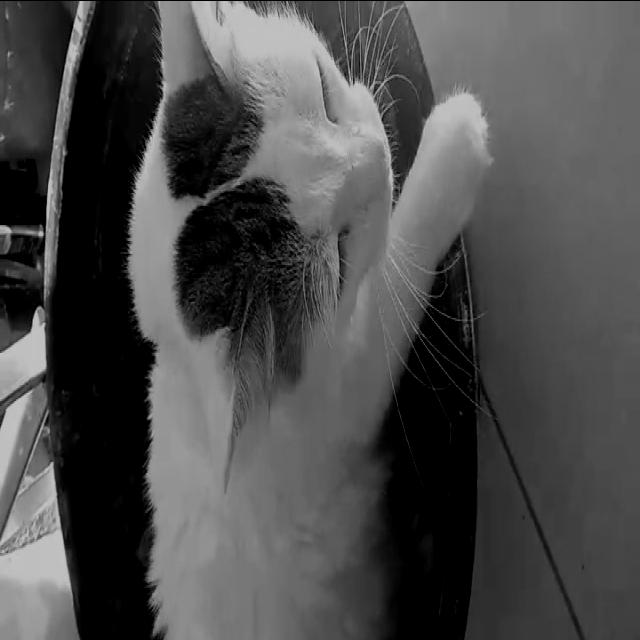Simba: (111, 2, 535, 588)
